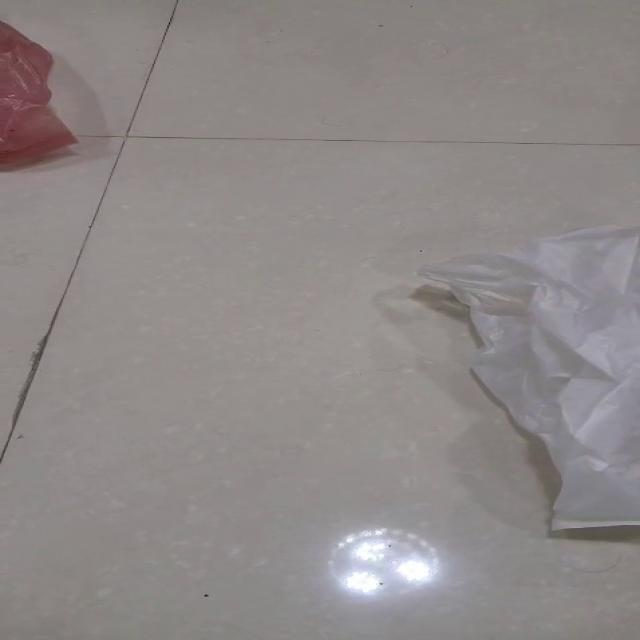plastic: (414, 223, 638, 531), (0, 19, 79, 166)
